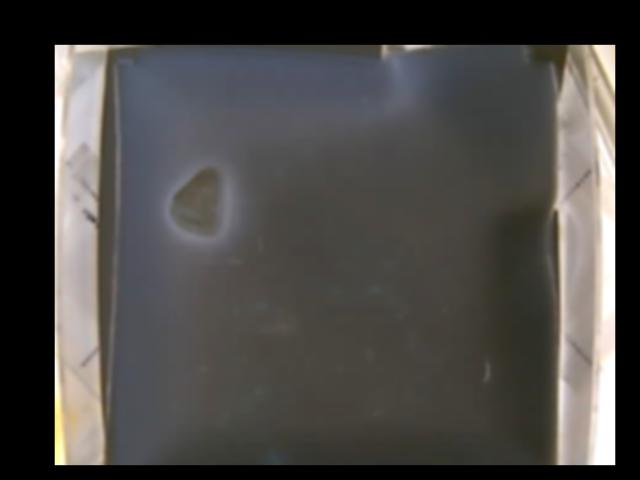Pebble: (168, 163, 227, 238)
